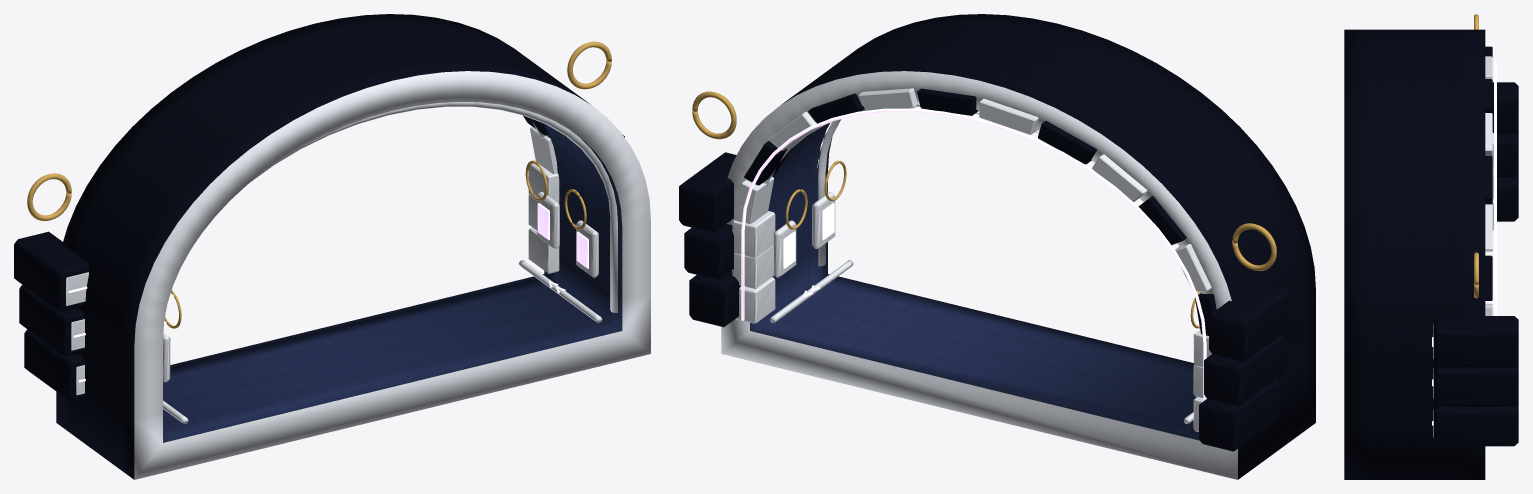
Rendered from portal_exit_lod1.glb.
The picture shows the model from 3 angles, left to right: view 1: azimuth 30°, elevation 25°; view 2: azimuth 150°, elevation 25°; view 3: azimuth 270°, elevation 25°; orthographic projection. The views are drawn at different scales.
Parts seen in each view (by area): view 1: TunnelGeometry.001; view 2: TunnelGeometry.001; view 3: TunnelGeometry.001.
Part boxes in pixels (x1,y1,x2,y2): TunnelGeometry.001: [14, 14, 650, 479]; TunnelGeometry.001: [679, 14, 1315, 479]; TunnelGeometry.001: [1344, 14, 1518, 479].
Bounding box in the file's own units: 17.32 × 9.52 × 4.95.
Materials: 5 (2 with a texture image).
